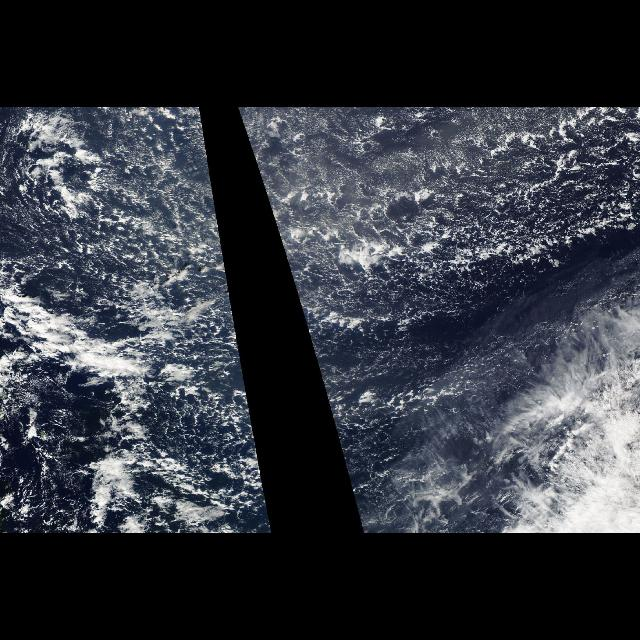Gravel: (235, 107, 640, 533), (0, 107, 274, 533)
Sugar: (256, 109, 434, 185)
